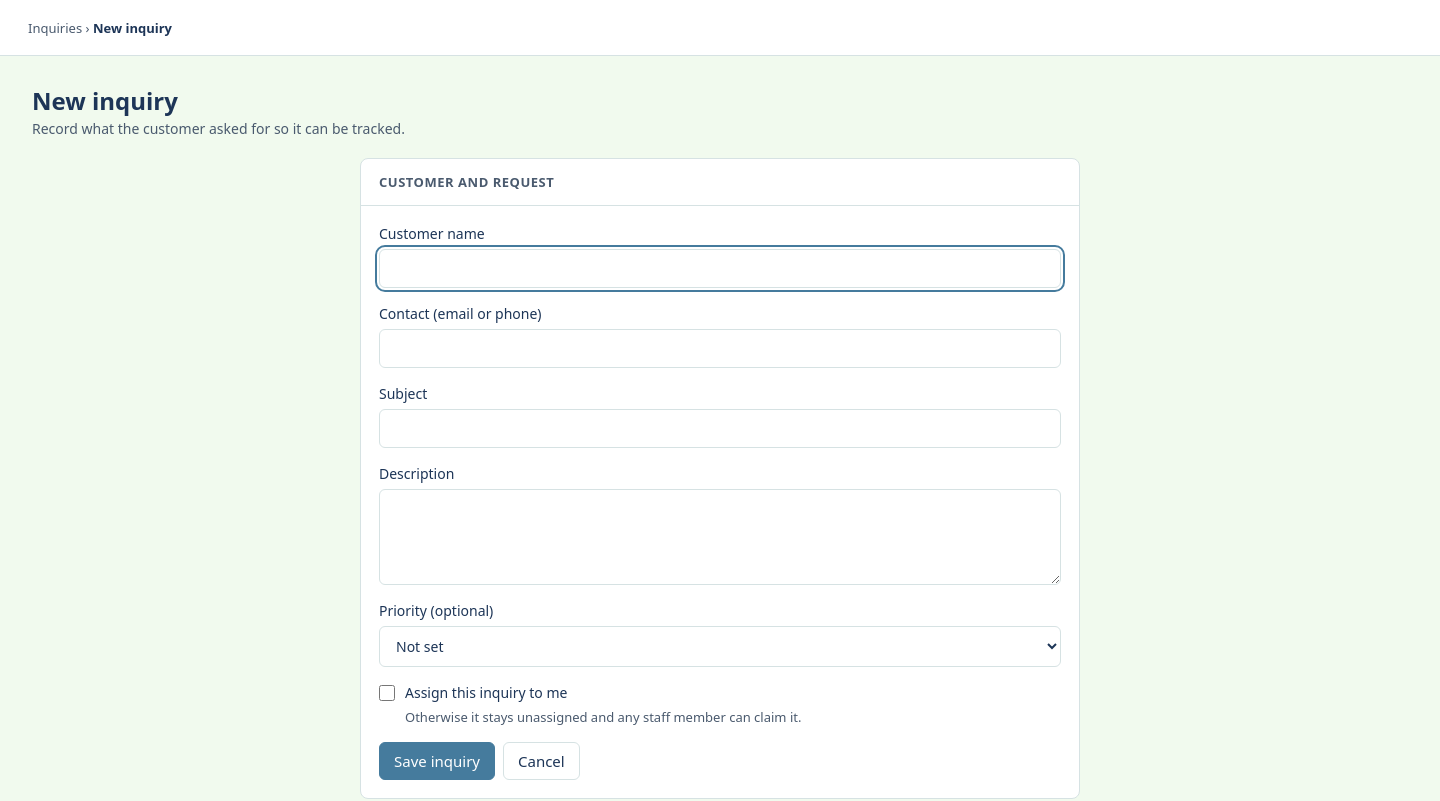
Scenario: NewInquiryPage › shows the duplicate message with a link when the API answers 409
Type "Ruwan" into the field labelled "Customer name". click: (720, 268)
box: [379, 249, 1061, 288]
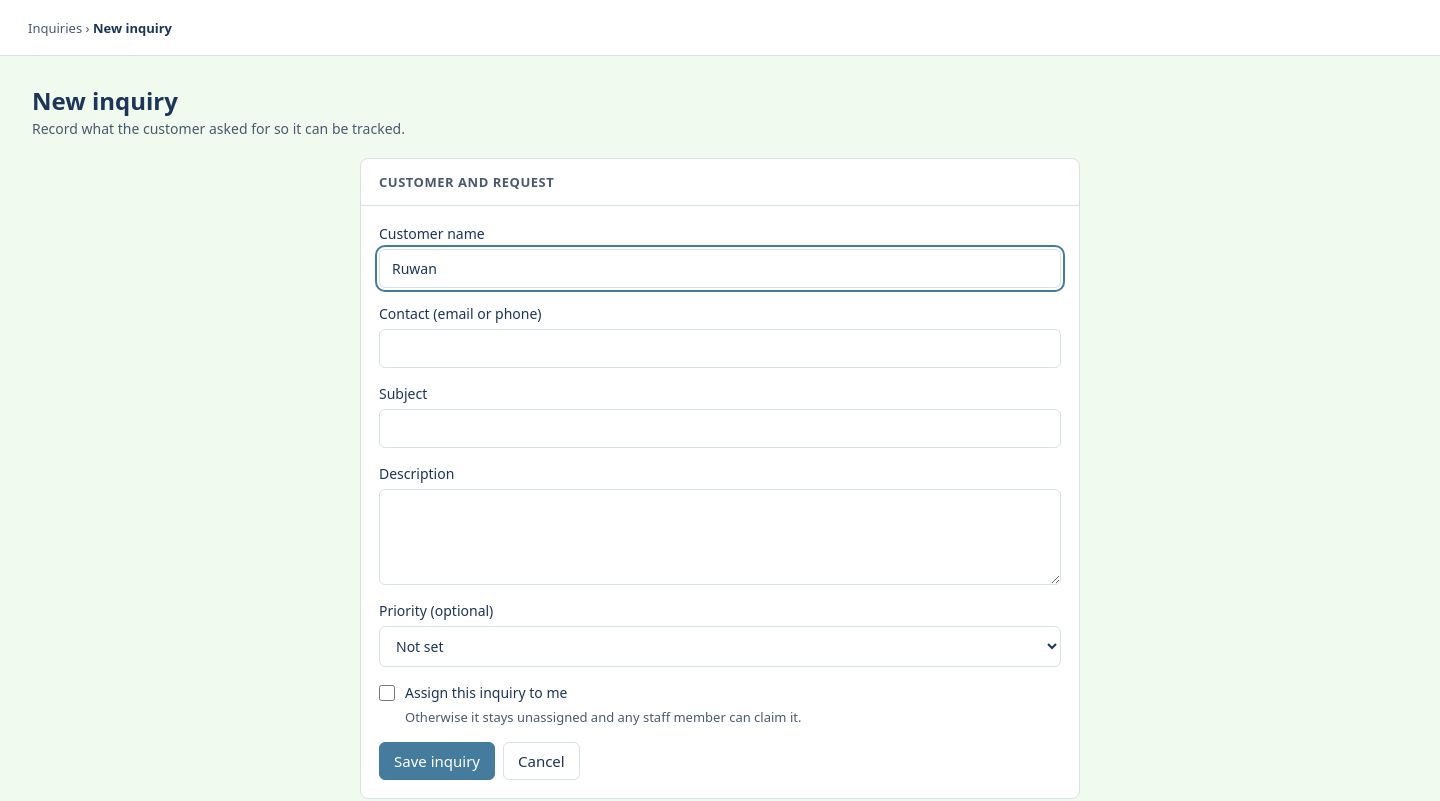
Type "ruwan@example.com" into the field labelled "Contact (email or phone)". click: (720, 348)
box: [379, 329, 1061, 368]
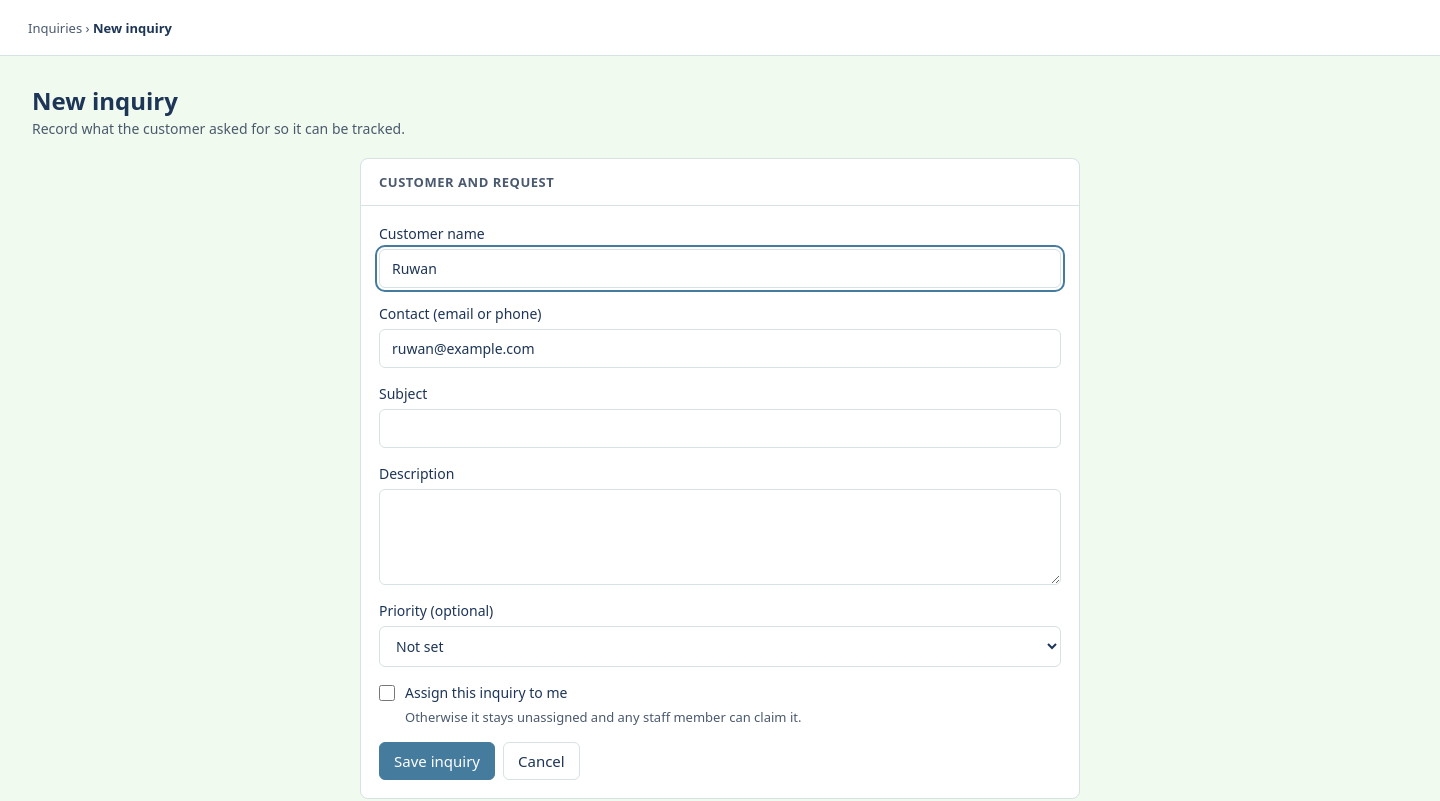
Type "Espresso machine not heating" into the field labelled "Subject". click: (720, 428)
box: [379, 409, 1061, 448]
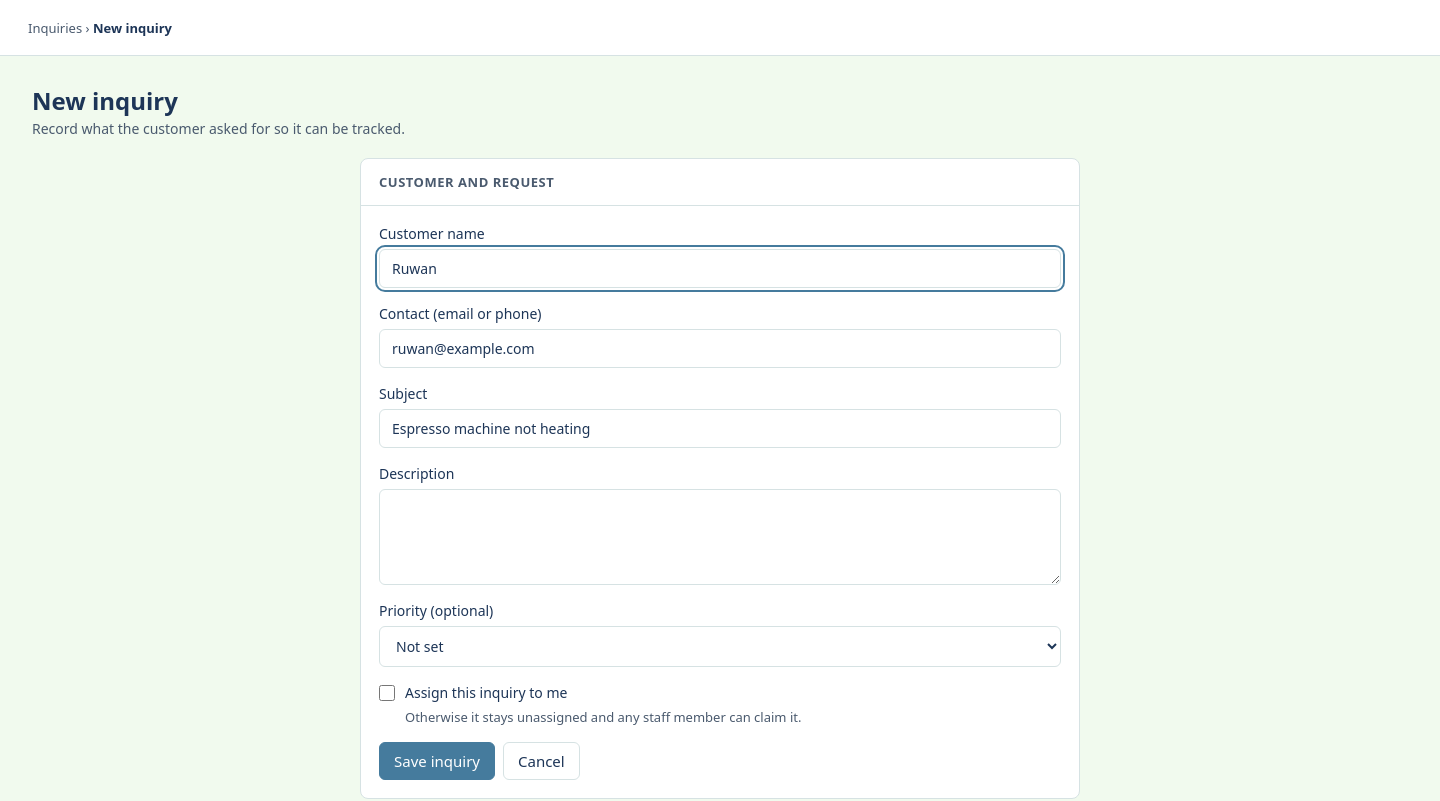
Type "Submitted again by mistake." into the text box labelled "Description". click: (720, 537)
box: [379, 489, 1061, 585]
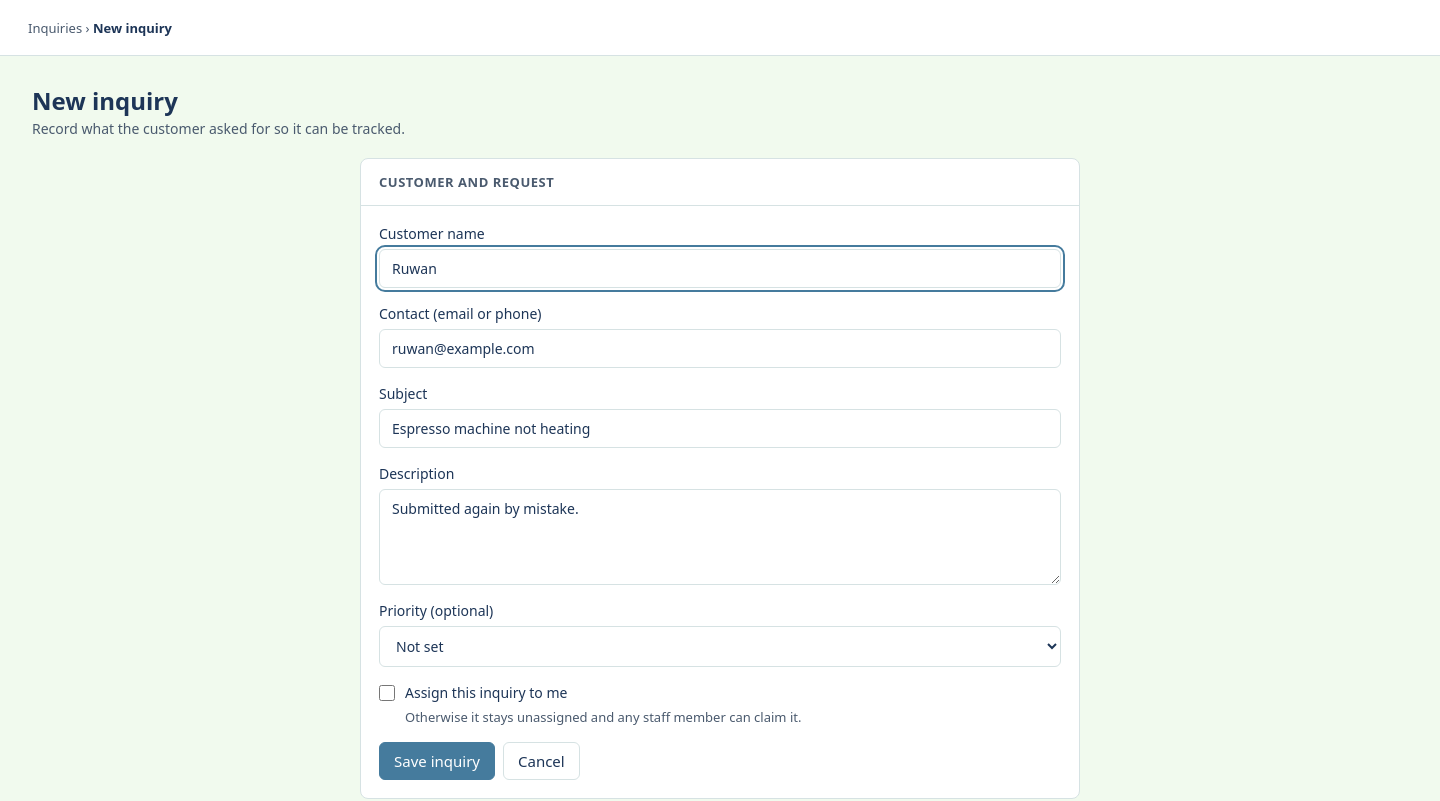
Click the button "Save inquiry". click: (437, 761)
box: [379, 742, 495, 780]
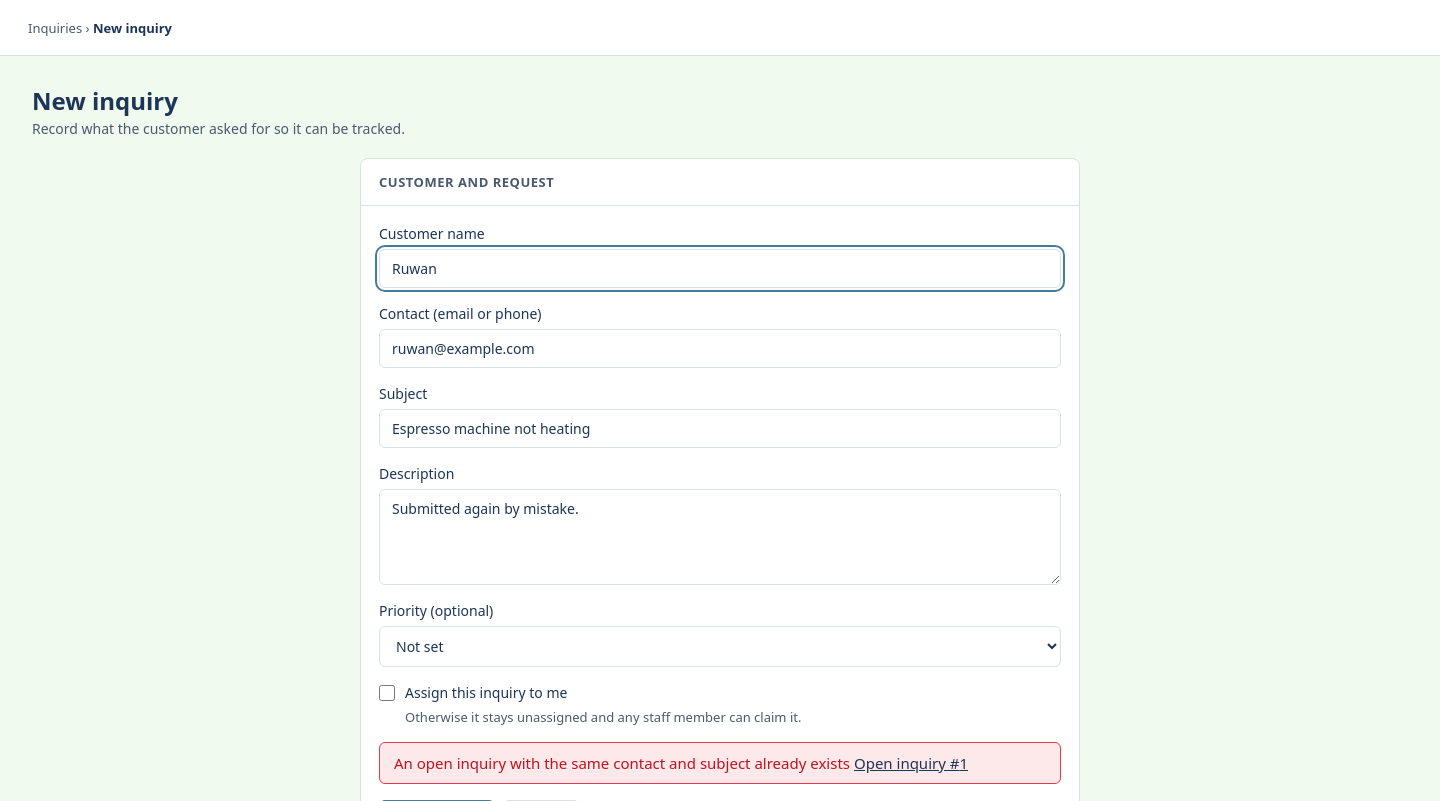
Expected: the text "already exists" is shown, [394, 753, 850, 773]
